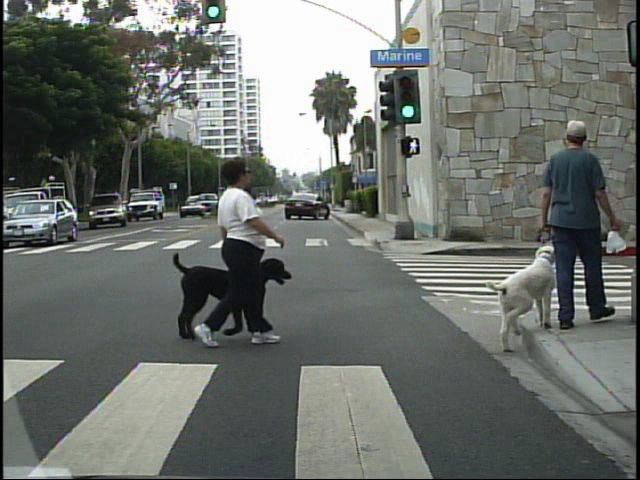person: (543, 111, 630, 342), (195, 146, 284, 350)
